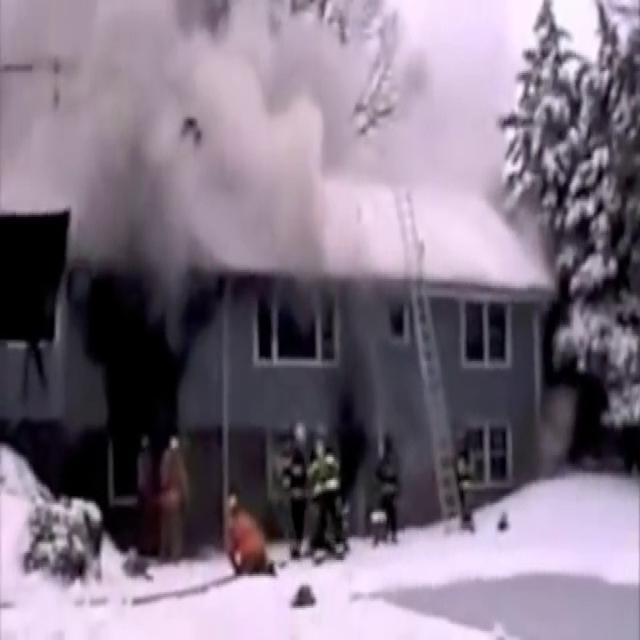Smoke: (0, 0, 327, 318)
